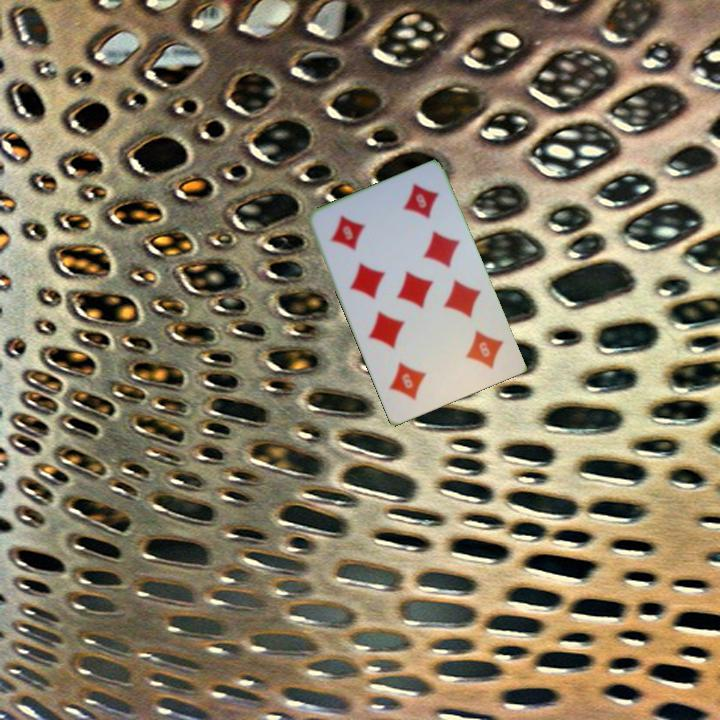d_9.png: (316, 194, 399, 272), (432, 312, 514, 390)
